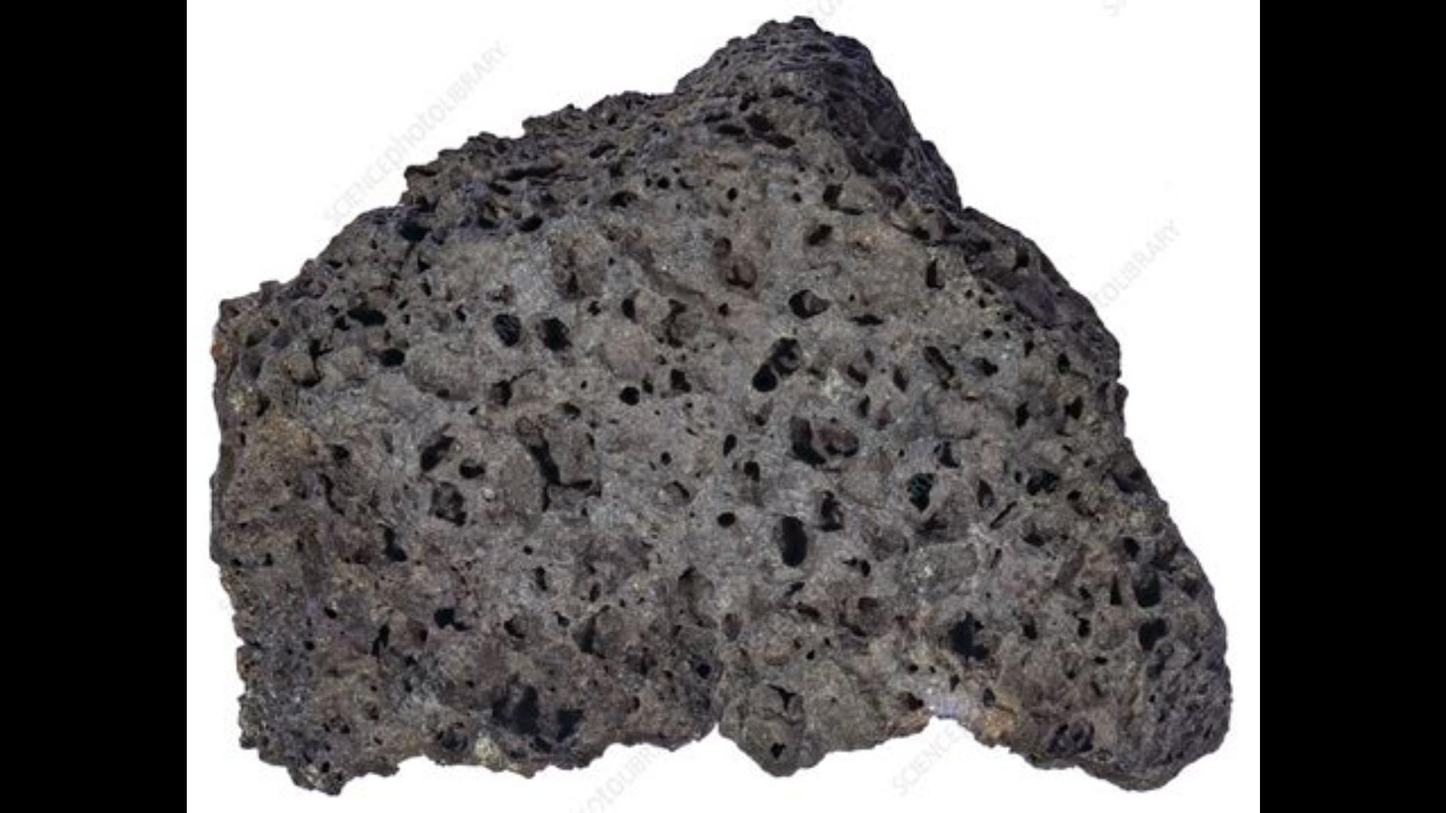rock: (211, 18, 1224, 786)
